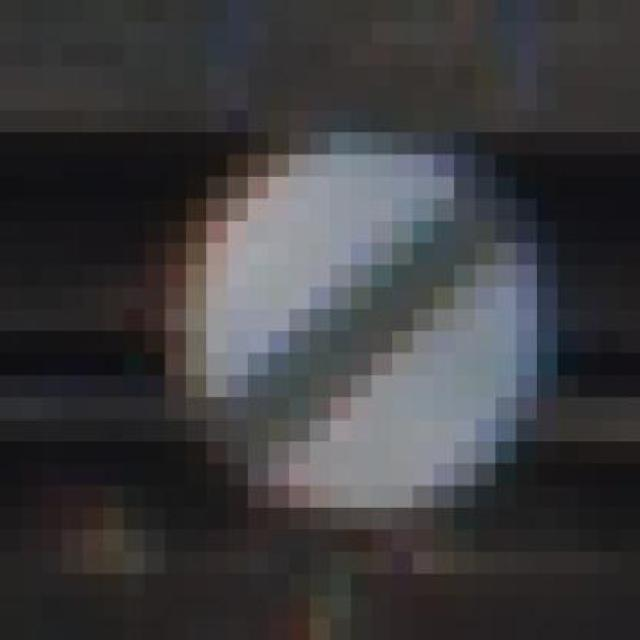End of all speed and passing limits: (124, 110, 578, 530)
